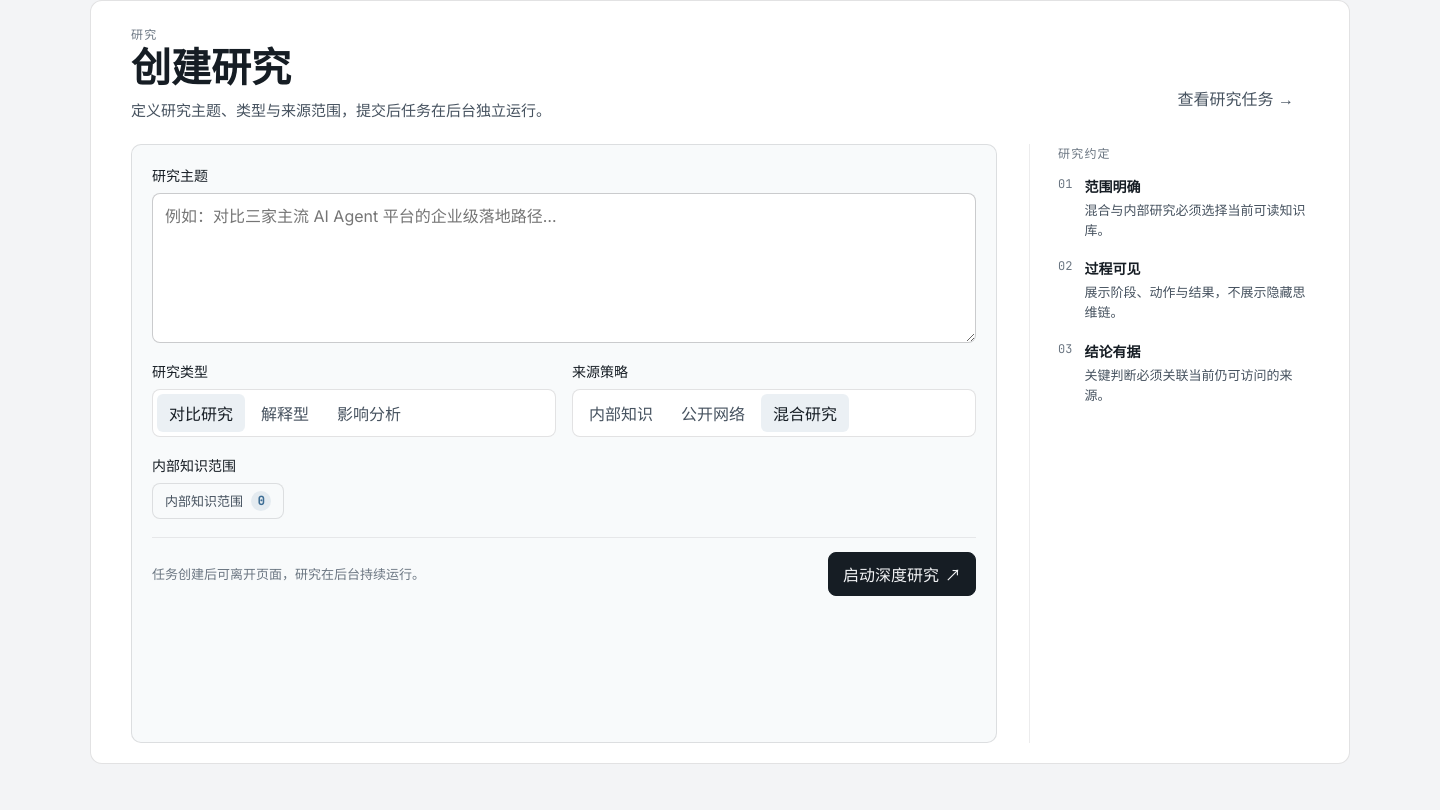
Test: 创建研究页 › 主题为空时阻止提交并提示
The image size is (1440, 810).
Click the button "启动深度研究": (902, 574) [828, 552, 976, 596]
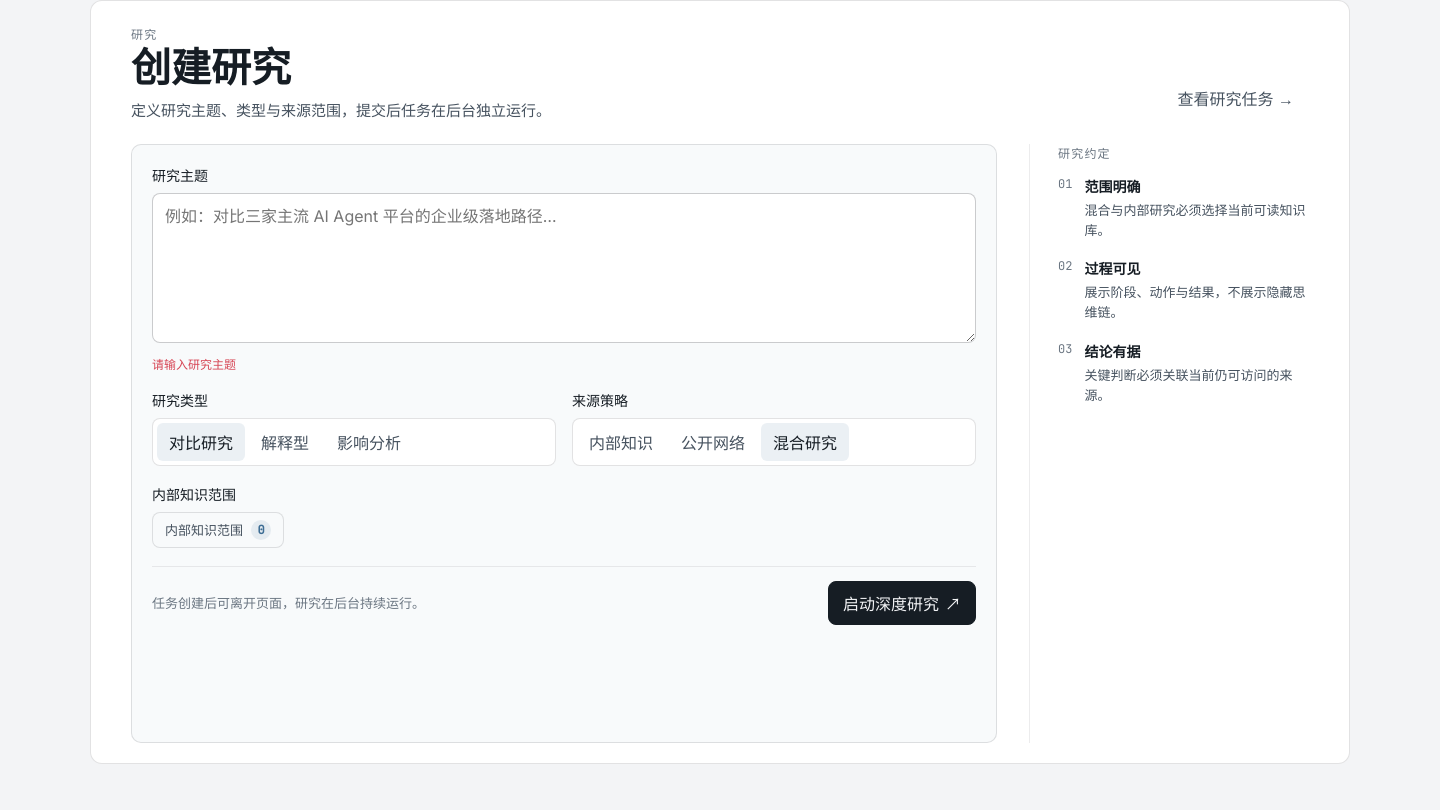
Expected: the text "请输入研究主题" is shown, [152, 357, 236, 372]
